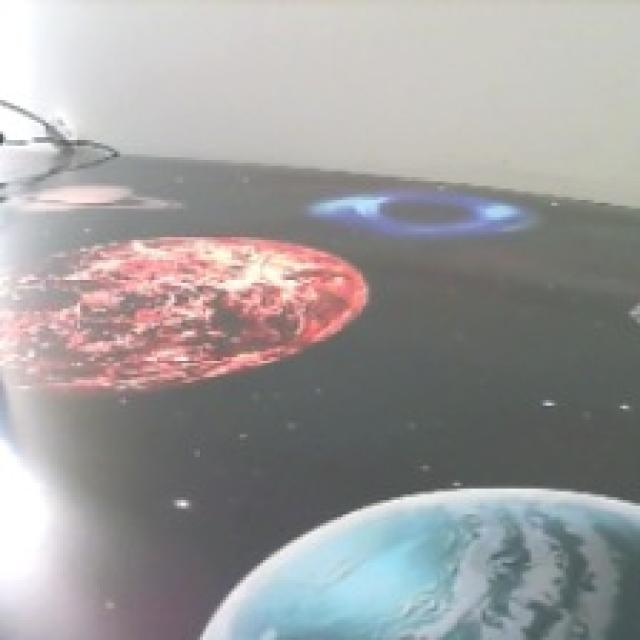Black Hole: (309, 187, 541, 242)
Earth: (199, 485, 640, 640)
Saturn: (0, 180, 186, 214)
Sun: (0, 229, 371, 400)
